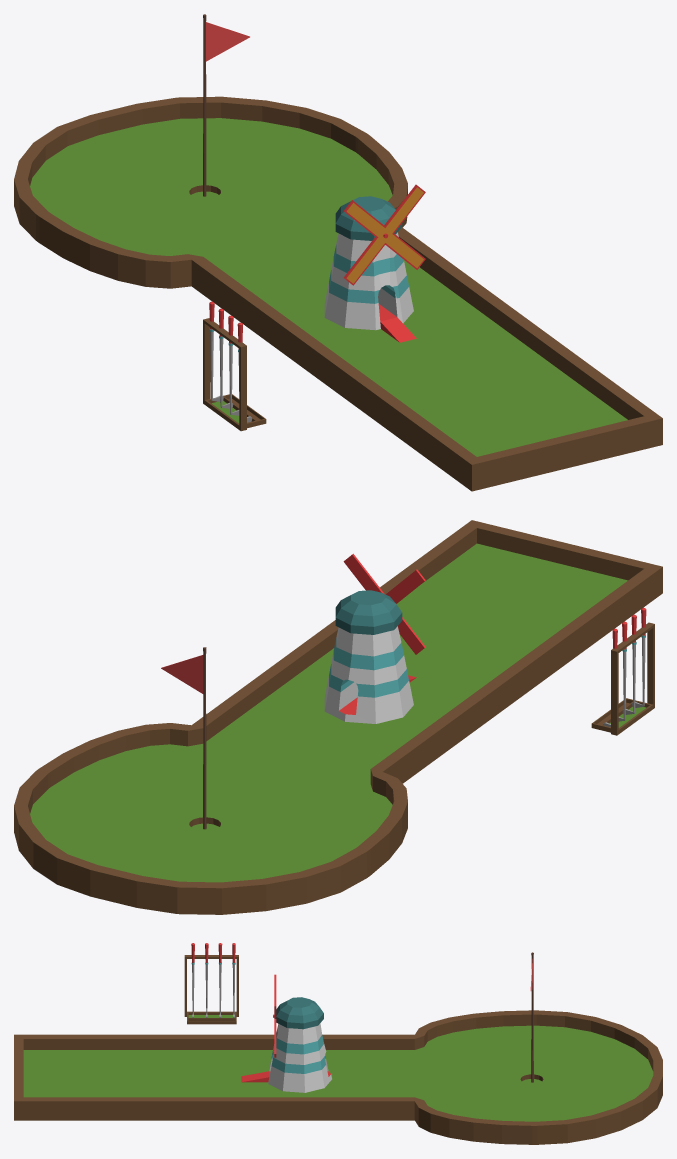
File: D1_MINIGOLF.fbx
3 views of the same model, one above another, from view 1: azimuth 30°, elevation 25°; view 2: azimuth 150°, elevation 25°; view 3: azimuth 270°, elevation 25° (orthographic). The views are drawn at different scales.
Visible parts, largest first — view 1: D1_MINI_GOLF, D1_PALOSGOLF; view 2: D1_MINI_GOLF, D1_PALOSGOLF; view 3: D1_MINI_GOLF, D1_PALOSGOLF.
Boxes of the visible parts, x1=… form: D1_MINI_GOLF: x1=14, y1=14, x2=662, y2=491; D1_PALOSGOLF: x1=203, y1=301, x2=266, y2=431; D1_MINI_GOLF: x1=14, y1=520, x2=662, y2=914; D1_PALOSGOLF: x1=591, y1=607, x2=654, y2=735; D1_MINI_GOLF: x1=14, y1=952, x2=662, y2=1144; D1_PALOSGOLF: x1=184, y1=943, x2=238, y2=1024.
Bounding box in the file's own units: 480 × 231 × 1013.
